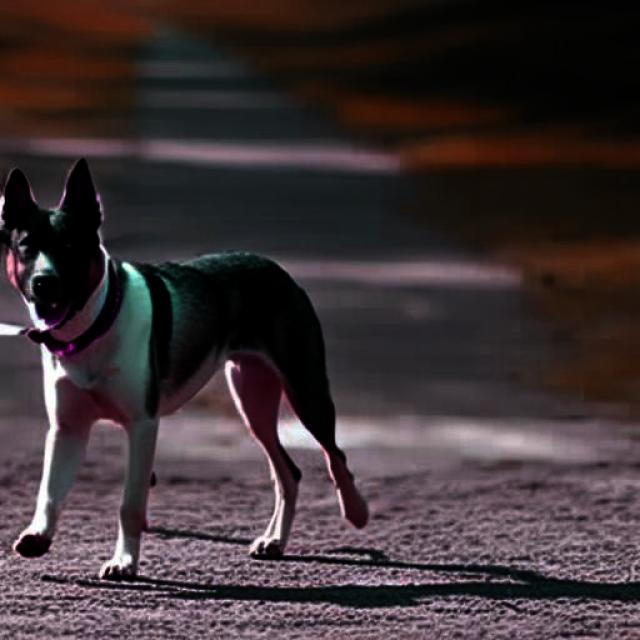Dog: (0, 156, 366, 582)
